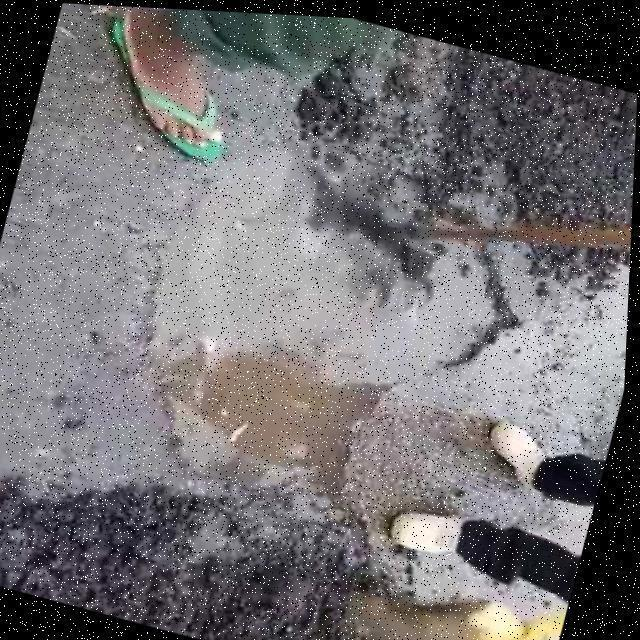Pothole: (141, 127, 528, 500)
